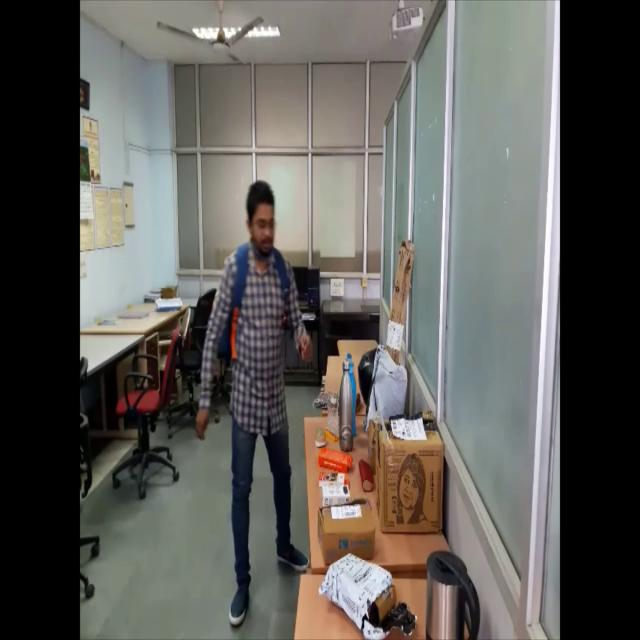normal: (194, 162, 318, 640)
